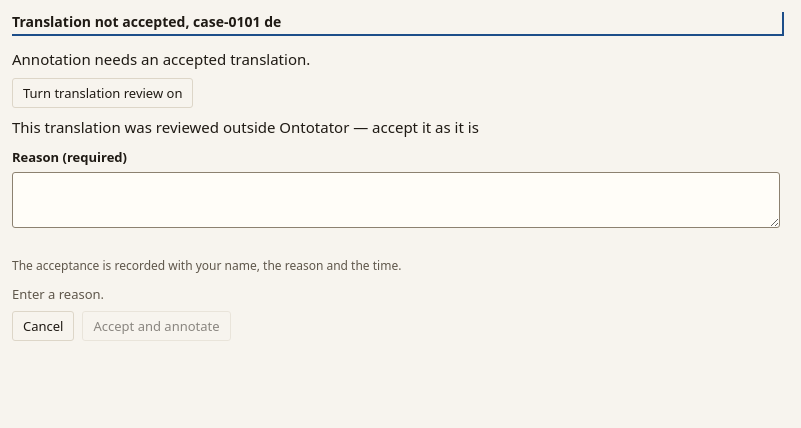
reports a plan changed elsewhere with the current revisions and the message
Click the button "Turn translation review on": (103, 93) [12,78,193,108]
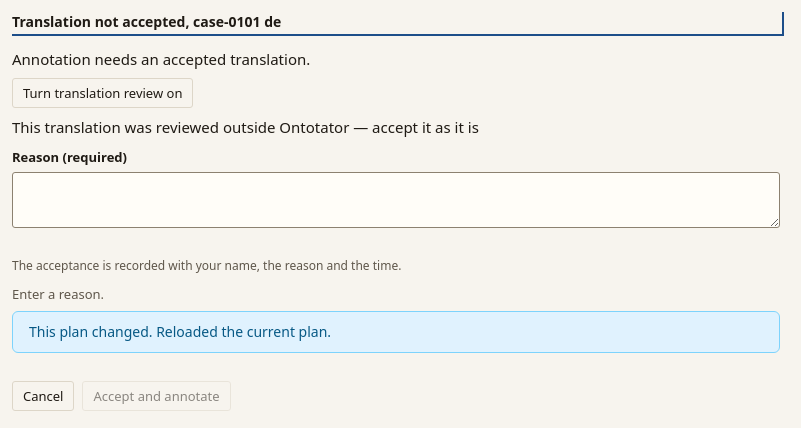
Now the text "This plan changed. Reloaded the current plan." is shown, box [29,322,331,342]
